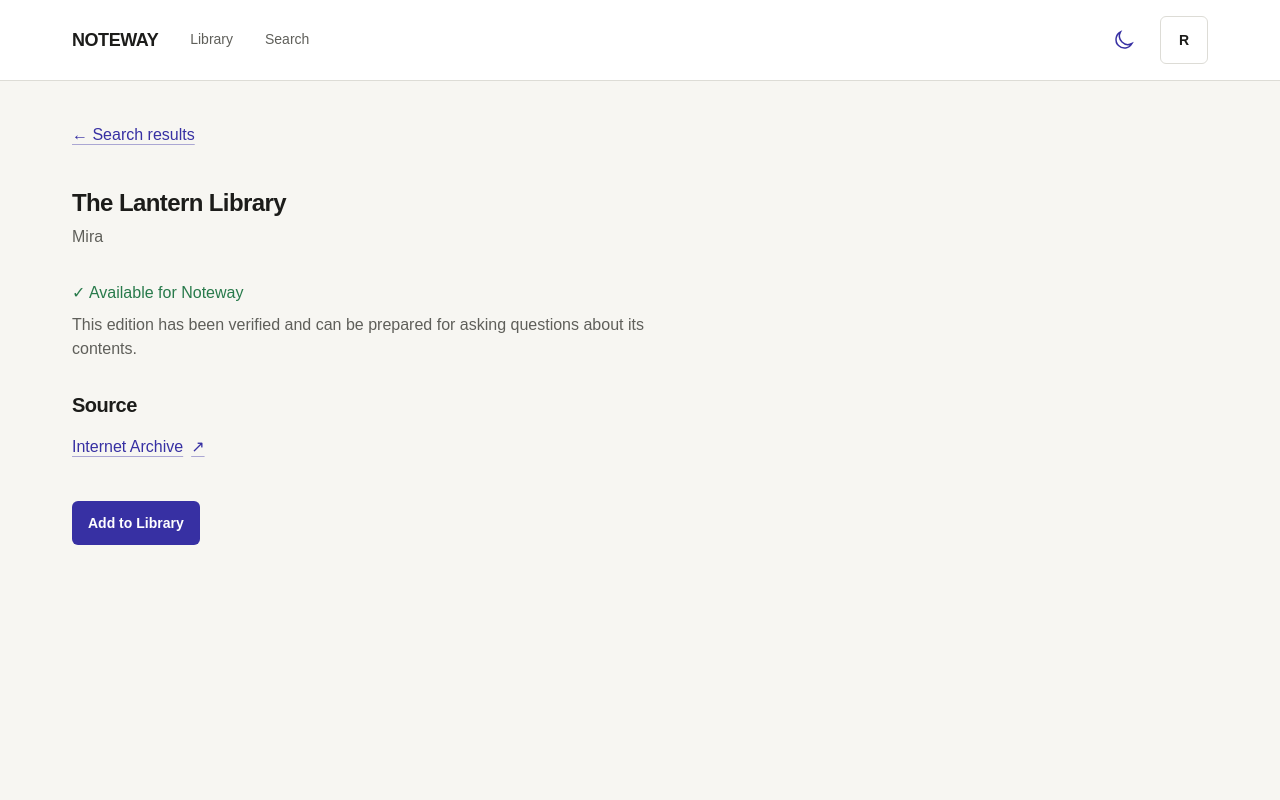
Test: adds at Book Details and shows the persisted processing state
Expected: the text "Available for Noteway" is shown, 72,284 -> 243,301
Click the button "Add to Library" at (136,523), box 72,501 -> 200,545
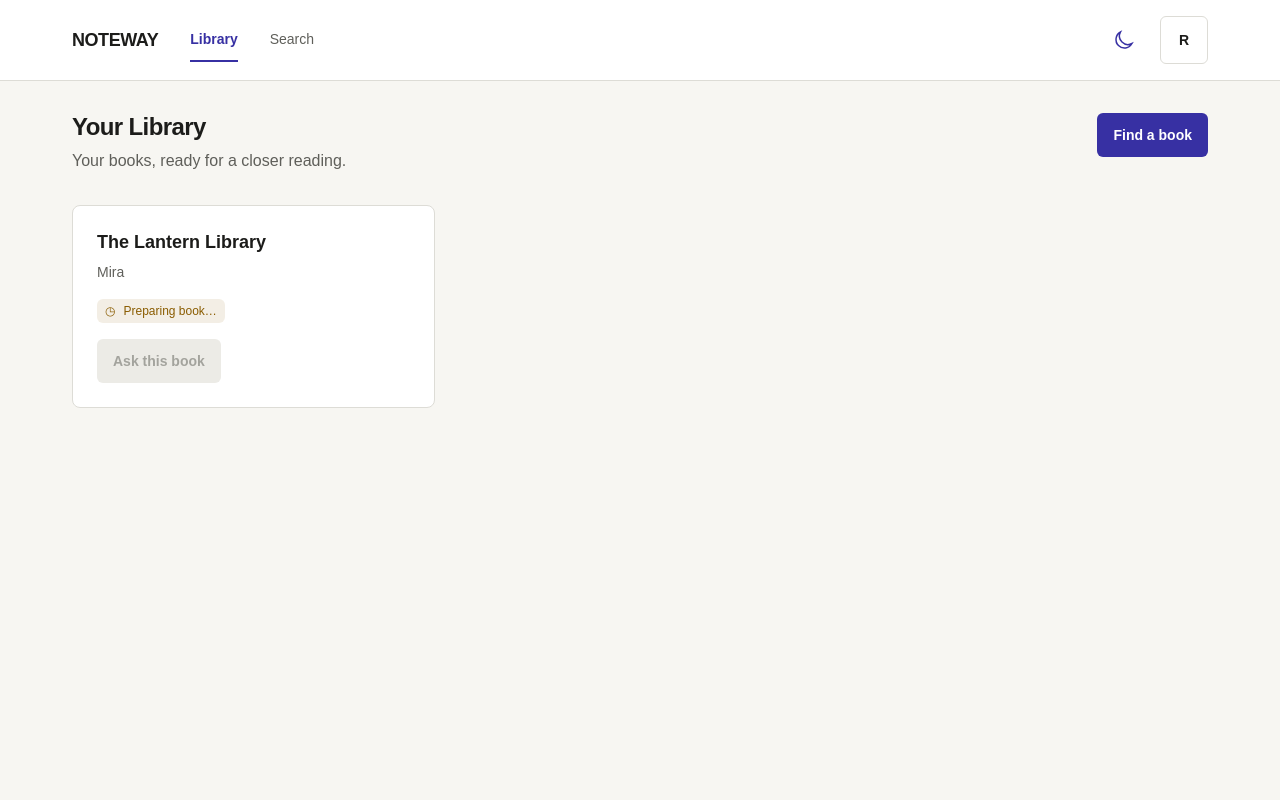
Expected: the heading "Your Library" is shown, 72,113 -> 206,140
Expected: the text "Preparing book…" is shown, 124,304 -> 217,318
Expected: the button "Ask this book" is disabled, 97,339 -> 221,383
